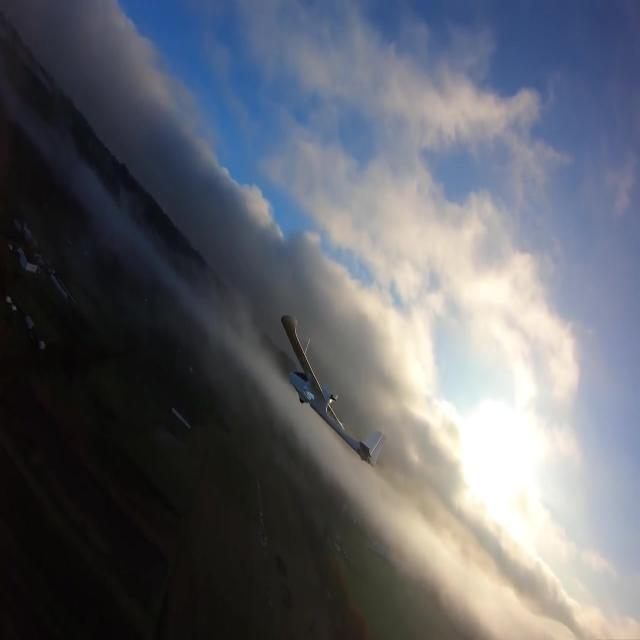iha: (312, 313, 357, 467)
